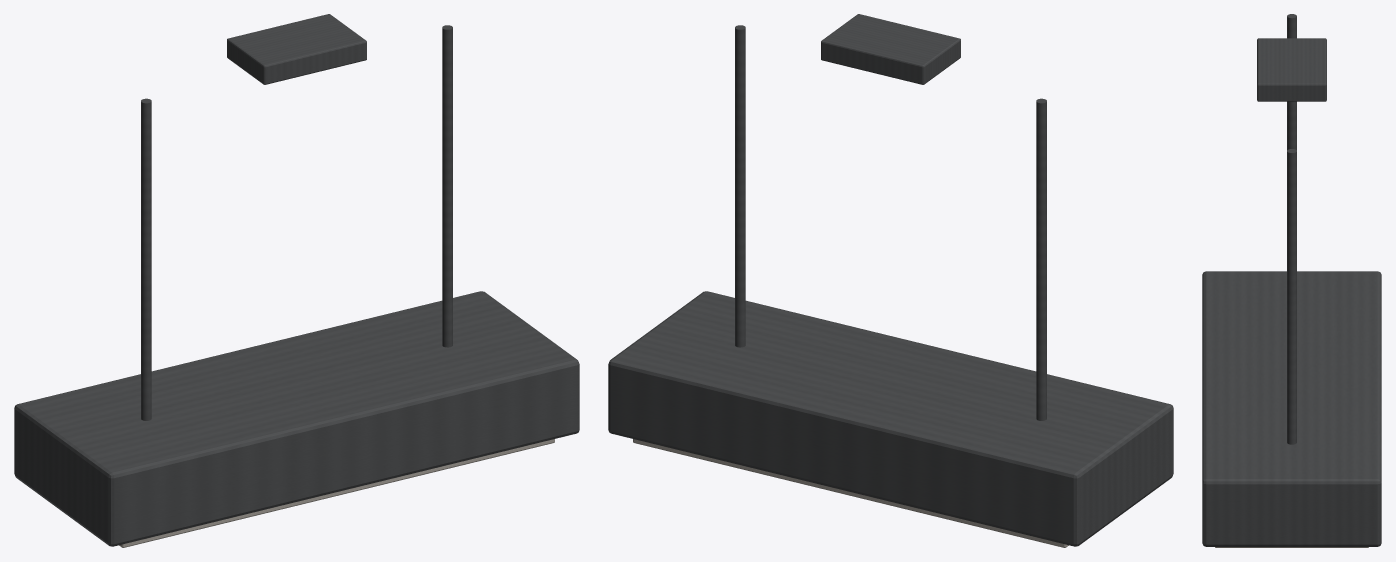
Rendered from pendant_light.glb.
3 views of the same model, side by side, from view 1: azimuth 30°, elevation 25°; view 2: azimuth 150°, elevation 25°; view 3: azimuth 270°, elevation 25° (orthographic). The views are drawn at different scales.
Visible parts, largest first — view 1: lamp_housing.001, ceiling_mount.001, hanger.001, hanger, outer_frame; view 2: lamp_housing.001, ceiling_mount.001, hanger.001, hanger, outer_frame; view 3: lamp_housing.001, ceiling_mount.001, hanger.001, hanger.
Part boxes in pixels (<box>): lamp_housing.001: <box>14,291,579,546</box>; ceiling_mount.001: <box>227,14,366,84</box>; hanger.001: <box>442,25,452,347</box>; hanger: <box>141,98,151,420</box>; outer_frame: <box>119,439,554,547</box>; lamp_housing.001: <box>608,291,1173,546</box>; ceiling_mount.001: <box>821,14,960,84</box>; hanger.001: <box>735,25,745,347</box>; hanger: <box>1036,98,1046,420</box>; outer_frame: <box>633,439,1068,547</box>; lamp_housing.001: <box>1202,271,1381,546</box>; ceiling_mount.001: <box>1257,38,1326,101</box>; hanger.001: <box>1287,149,1296,444</box>; hanger: <box>1287,14,1296,150</box>.
Bounding box in the file's own units: 1 × 0.871 × 0.36.
3 materials, 2 textured.
